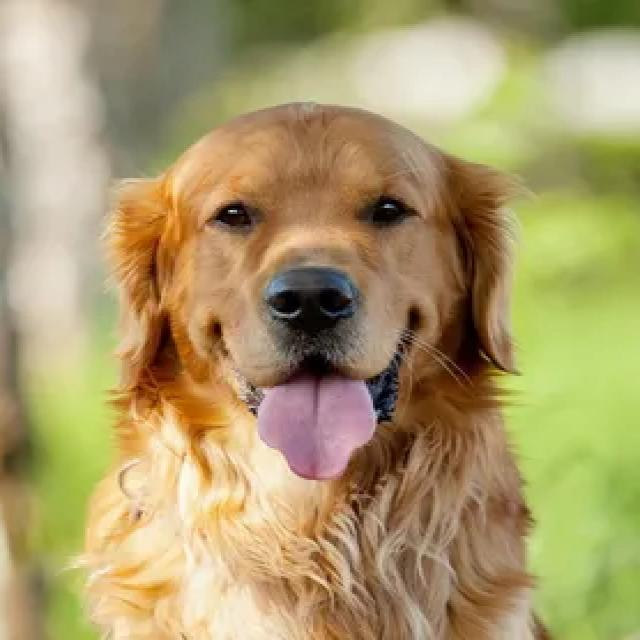Dog: (95, 93, 532, 640)
